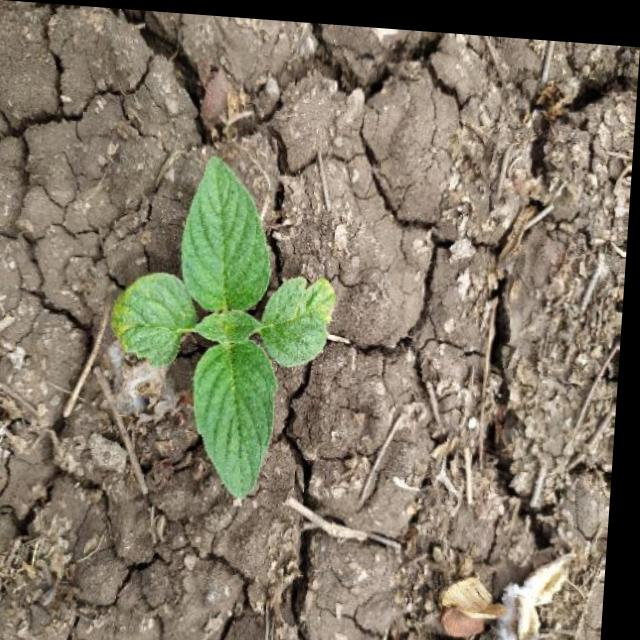weed: (100, 151, 352, 521)
